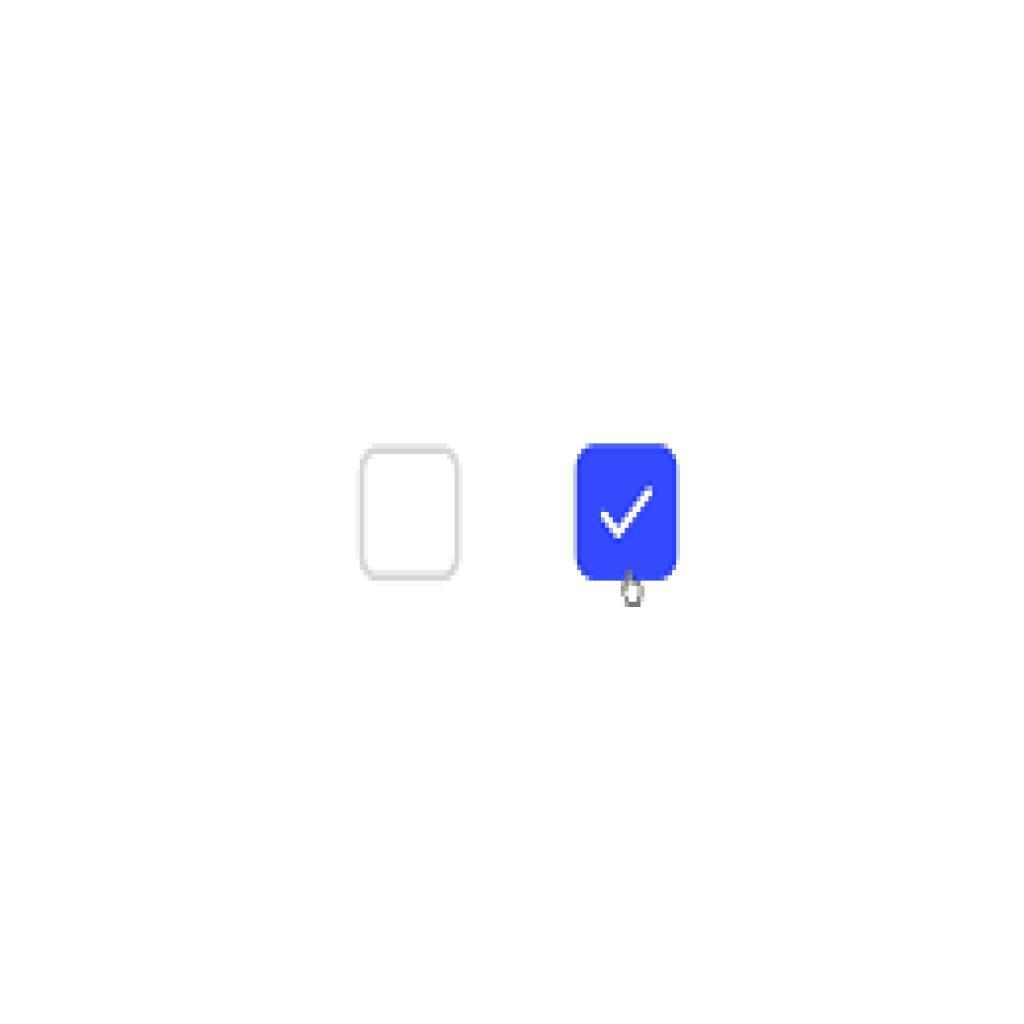checkbox: (577, 446, 679, 581), (366, 446, 463, 578)
